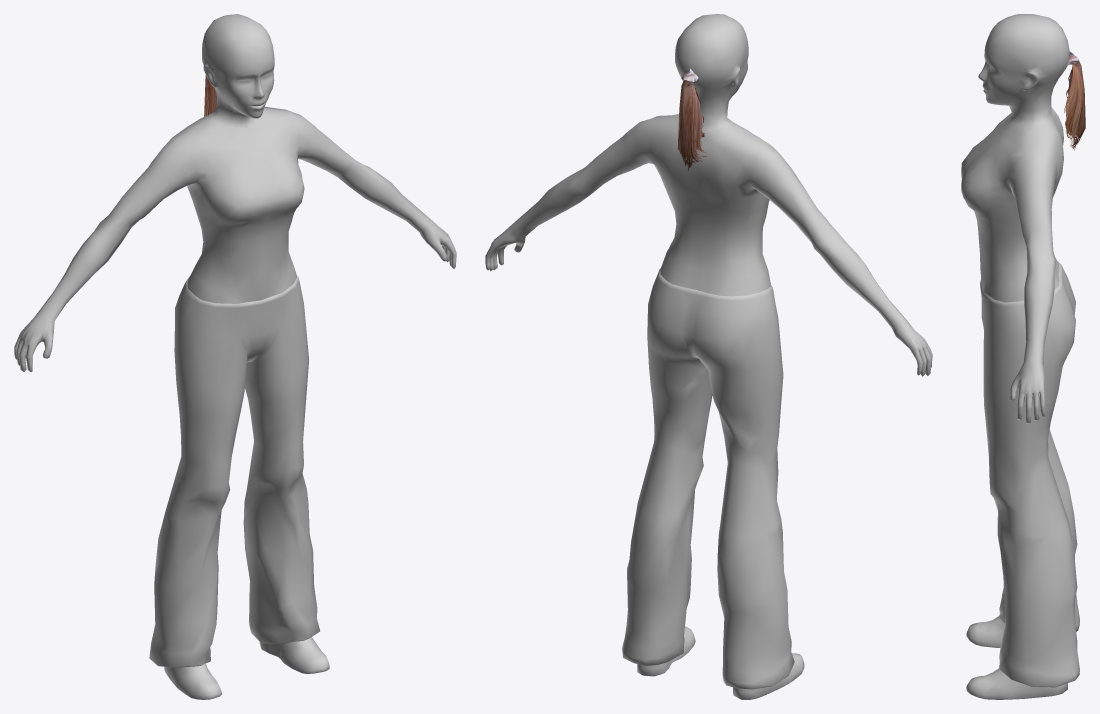
Rendered from sportive04_hig.FBX.
3 views of the same model, side by side, from view 1: azimuth 30°, elevation 25°; view 2: azimuth 150°, elevation 25°; view 3: azimuth 270°, elevation 25° (orthographic).
Parts seen in each view (by area): view 1: sportive04_f_highpoly; view 2: sportive04_f_highpoly; view 3: sportive04_f_highpoly.
Part boxes in pixels (x1,y1,x2,y2): sportive04_f_highpoly: (14,14,456,699); sportive04_f_highpoly: (485,14,932,699); sportive04_f_highpoly: (961,14,1085,699).
Size of the model in its own units: 121 by 172 by 29.84.
